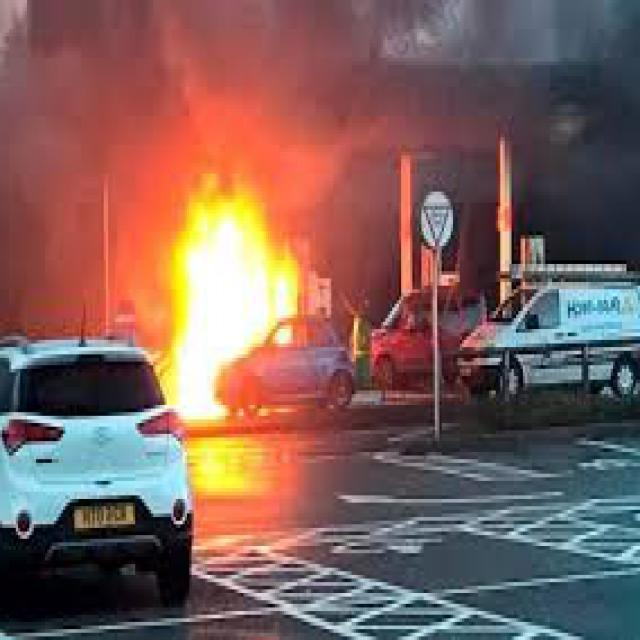Fire: (160, 210, 309, 423)
Smoke: (29, 0, 353, 181)
